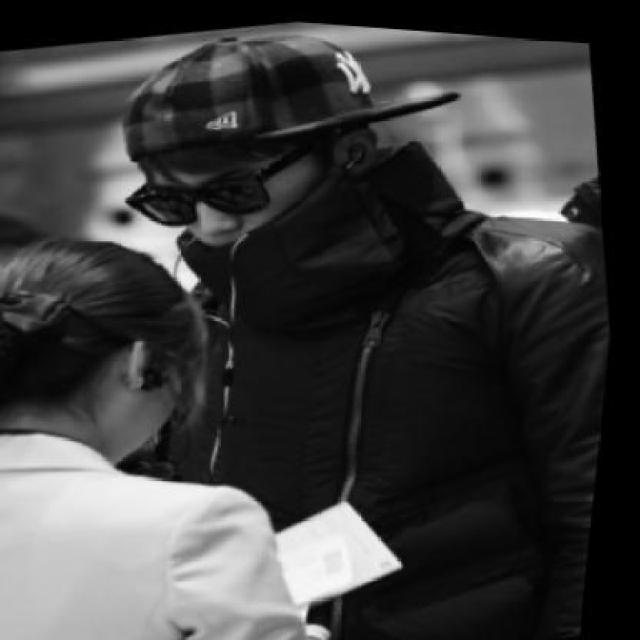hat: (100, 6, 477, 189)
